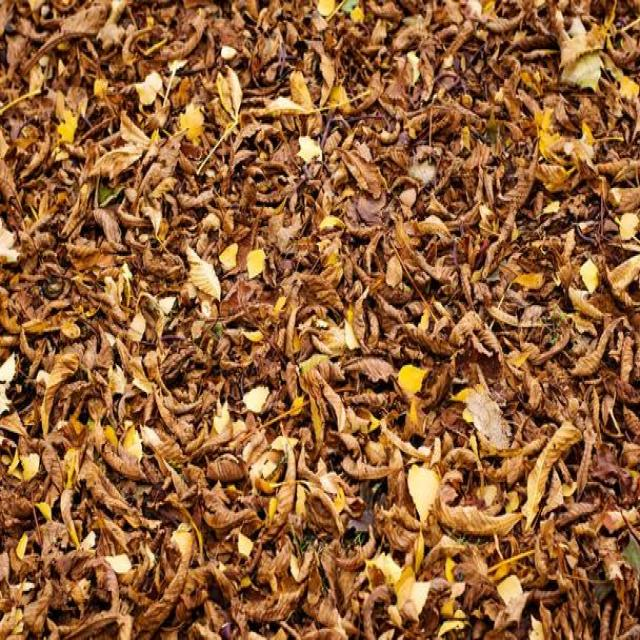organic waste: (3, 456, 629, 636), (0, 283, 176, 449), (315, 5, 494, 154), (324, 292, 492, 430), (149, 6, 311, 148), (317, 158, 489, 288), (496, 3, 638, 155), (0, 148, 161, 282), (1, 3, 146, 148), (183, 287, 319, 439), (492, 157, 640, 290), (162, 152, 314, 277)
